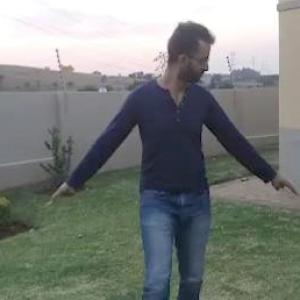land: (21, 2, 299, 299)
